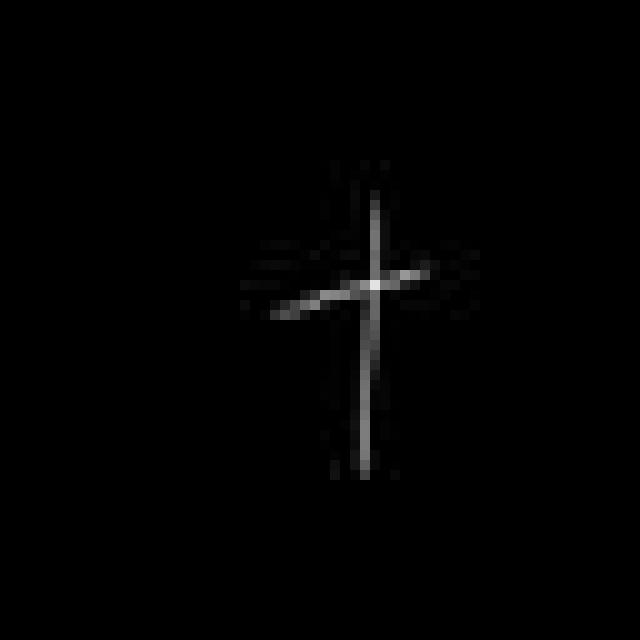10 -ten-: (264, 200, 433, 486)
